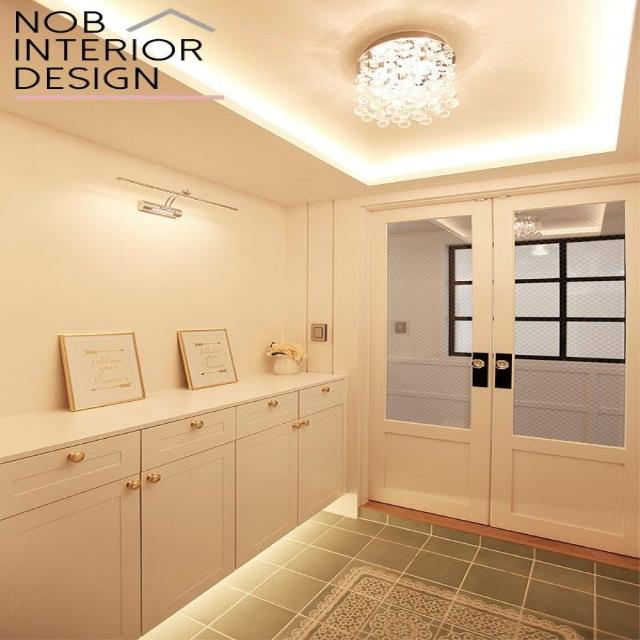door: (362, 182, 636, 558)
obstacle: (0, 370, 349, 638)
